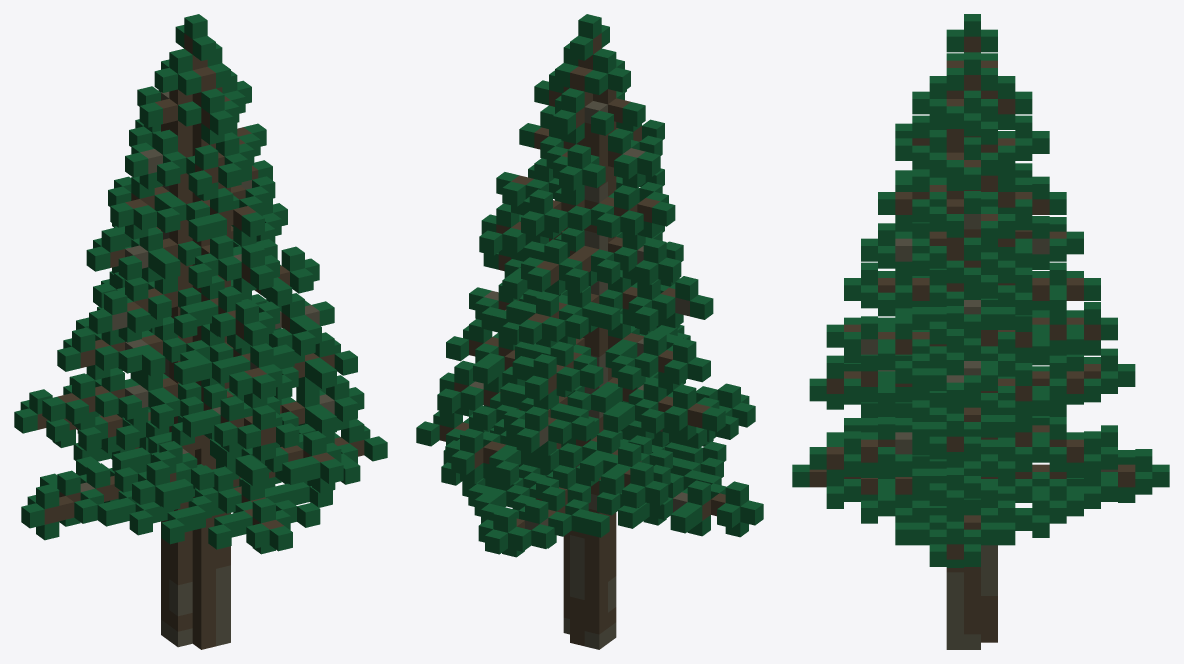
Rendered from pine_2.obj.
The picture shows the model from 3 angles, left to right: view 1: azimuth 30°, elevation 25°; view 2: azimuth 150°, elevation 25°; view 3: azimuth 270°, elevation 25°; orthographic projection.
Bounding box in the file's own units: 2.3 × 4 × 2.2.
Materials: 1 (1 with a texture image).
